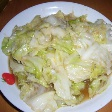juanxincairoupian: (2, 12, 112, 110)
